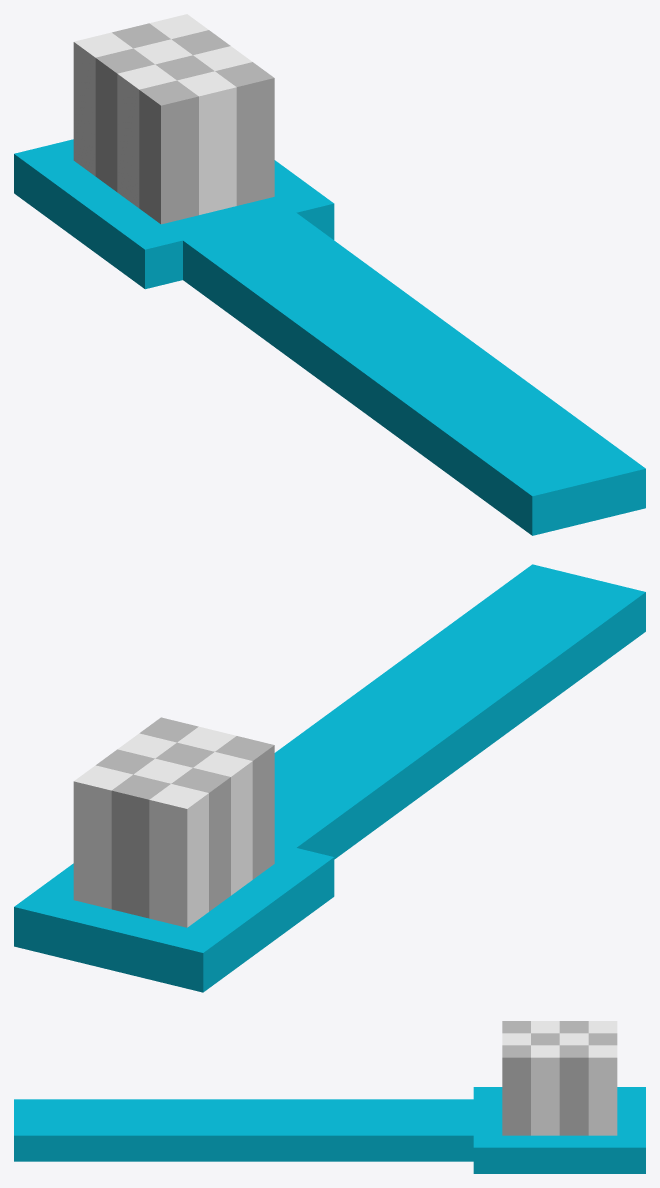
The model's file is toothbrush.fbx.
3 renders of one model, top to bottom at view 1: azimuth 30°, elevation 25°; view 2: azimuth 150°, elevation 25°; view 3: azimuth 270°, elevation 25°, orthographic. The views are drawn at different scales.
Parts seen in each view (by area): view 1: Cube; view 2: Cube; view 3: Cube.
Part boxes in pixels (x1=…): Cube: x1=14, y1=14, x2=645, y2=535; Cube: x1=14, y1=564, x2=645, y2=992; Cube: x1=14, y1=1021, x2=645, y2=1173.
Size of the model in its own units: 500 by 400 by 2200.
